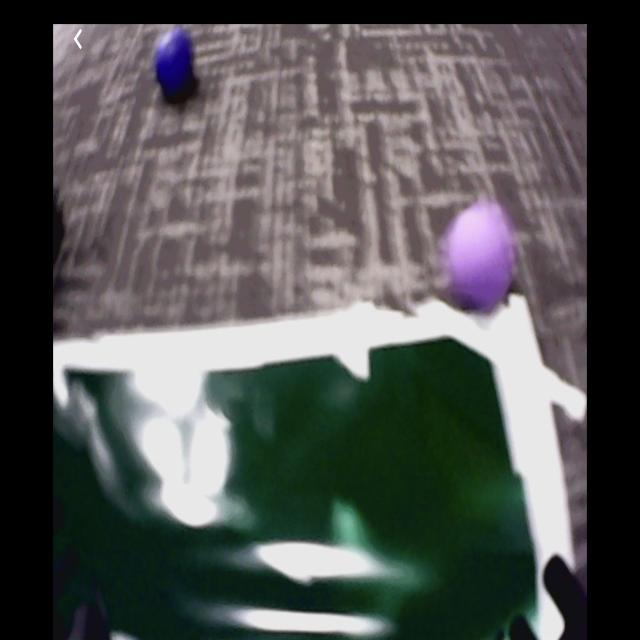ball: (453, 210, 513, 309), (156, 30, 196, 102)
